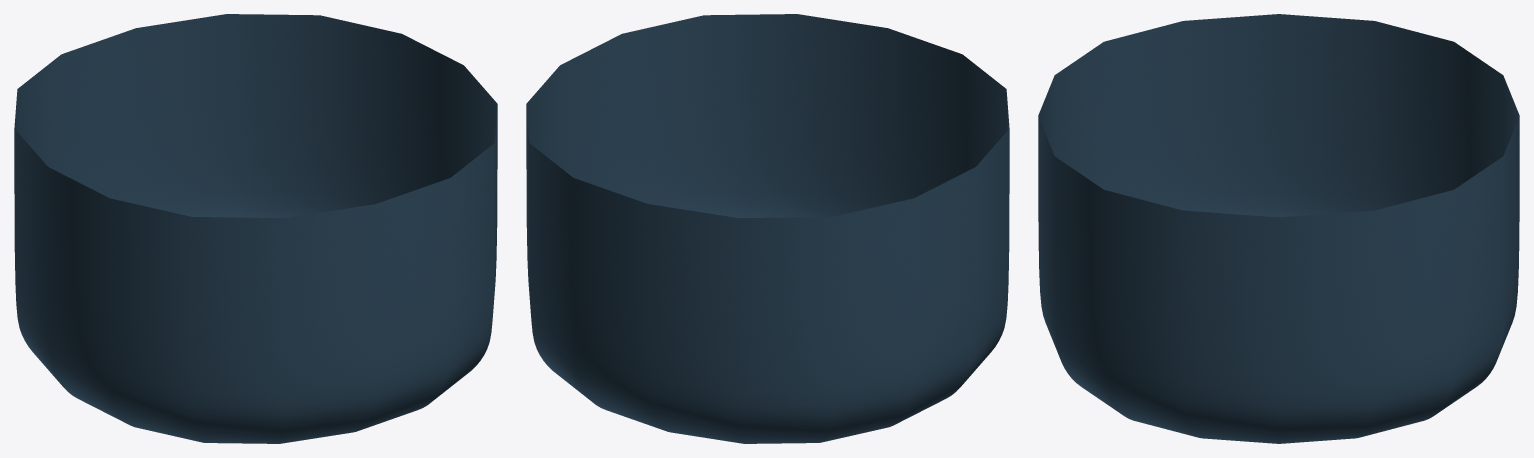
File: fc-web10.gltf
3 renders of one model, left to right at view 1: azimuth 30°, elevation 25°; view 2: azimuth 150°, elevation 25°; view 3: azimuth 270°, elevation 25°, orthographic.
Visible parts, largest first — view 1: floor; view 2: floor; view 3: floor.
Boxes of the visible parts, x1,y1,x2,y2 form: floor: (14,14,497,443); floor: (526,14,1009,443); floor: (1038,14,1519,443).
Size of the model in its own units: 419 by 243 by 419.
12 materials, 2 textured.
